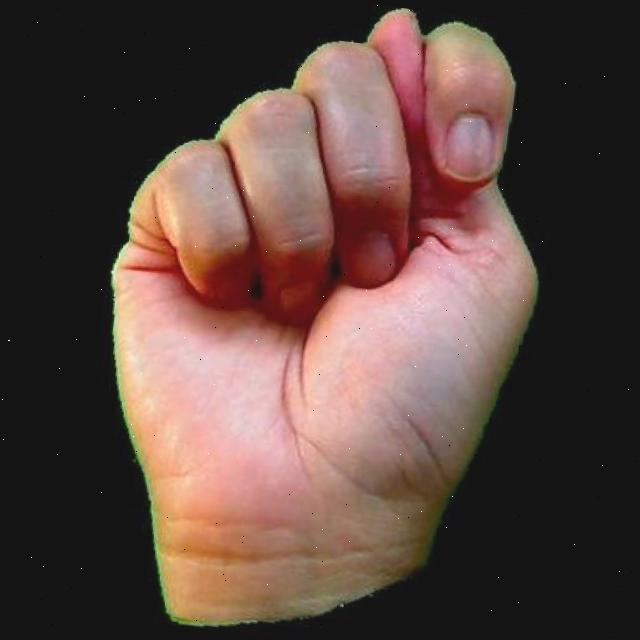t: (62, 0, 573, 640)
